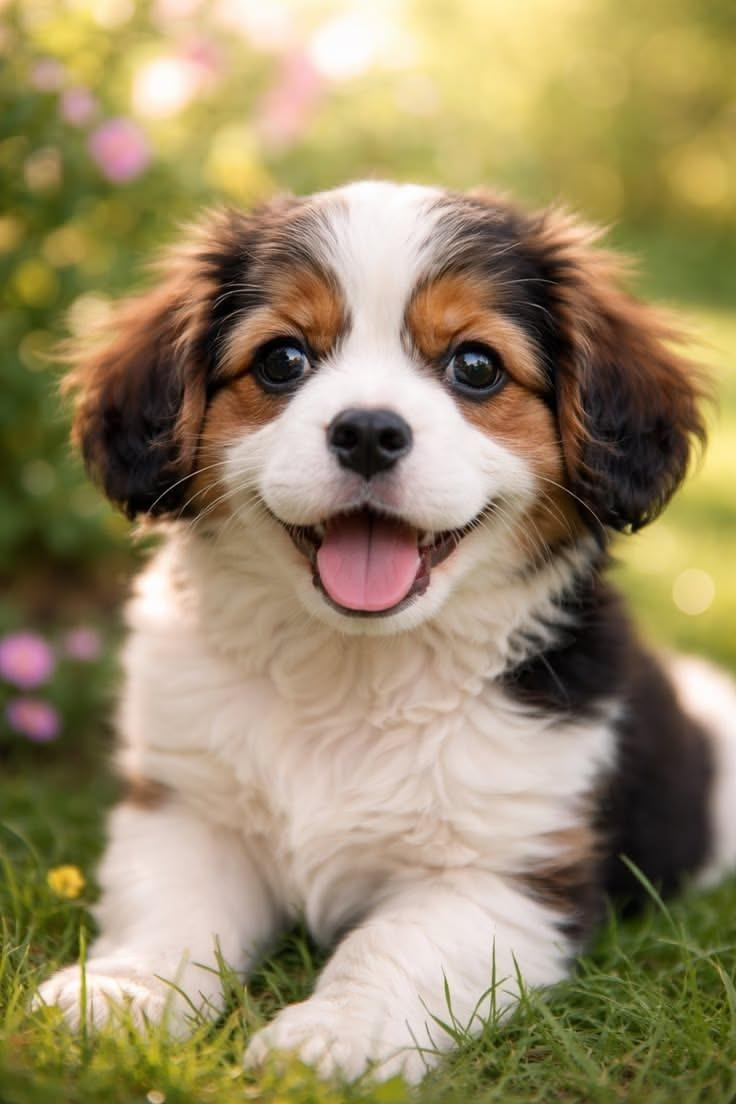puppy-dog: (32, 177, 736, 1088)
